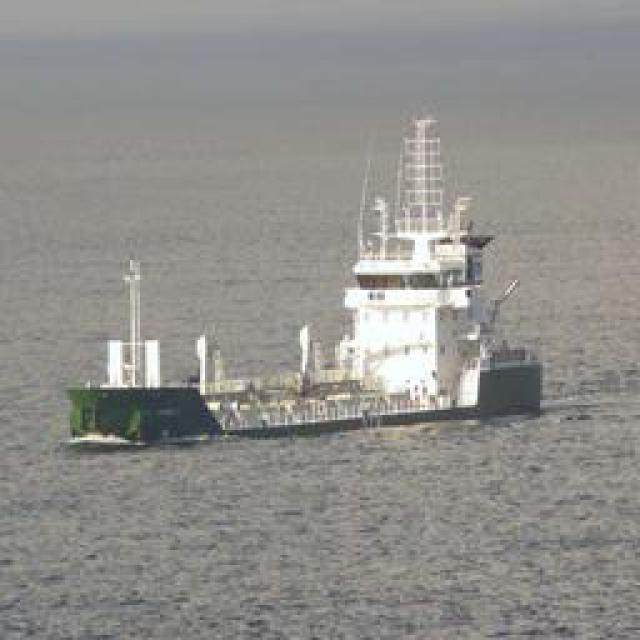Ship: (58, 107, 542, 448)
